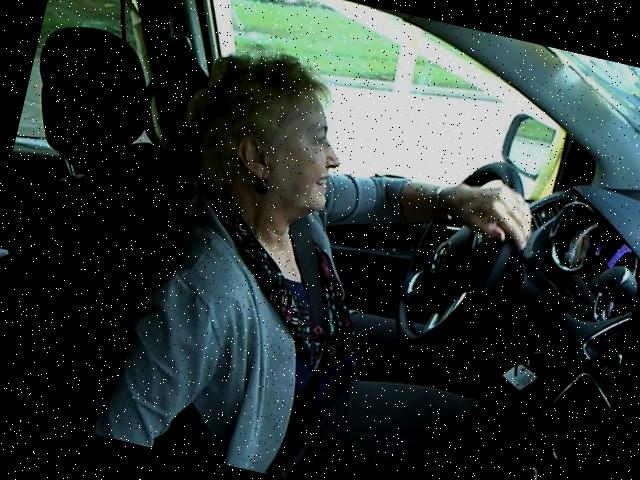c5 - Reaching Behind: (0, 0, 579, 450)
